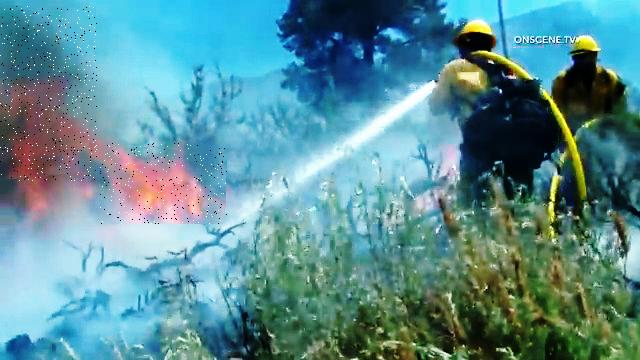fire: (100, 142, 227, 224)
smoke: (0, 6, 97, 181)
